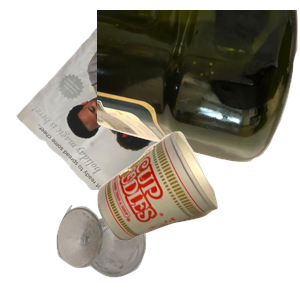glass: (54, 202, 193, 300)
paper: (14, 10, 229, 190)
plastic: (97, 10, 300, 165)
trash: (95, 129, 300, 300)
